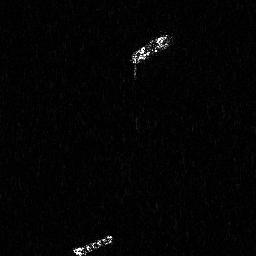ship: (129, 30, 175, 80), (72, 231, 112, 256)
